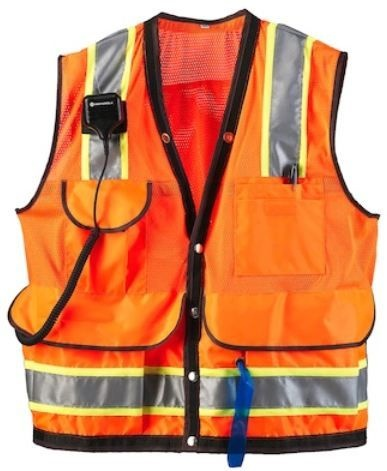safety vest: (9, 10, 382, 467)
